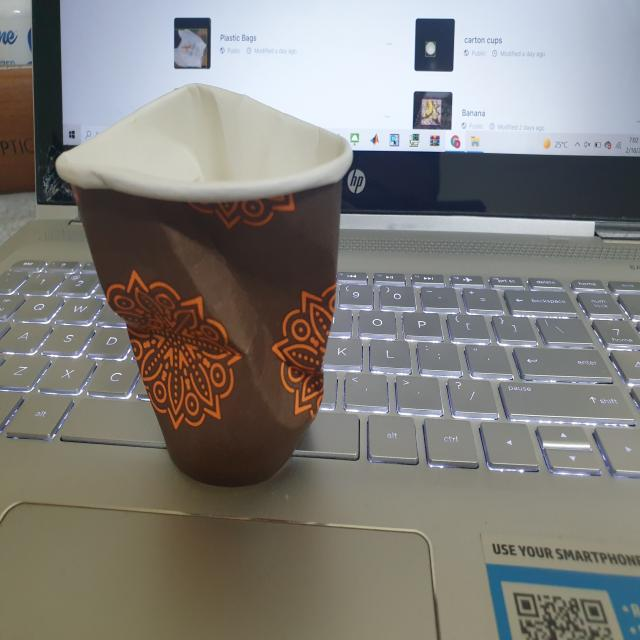cups: (49, 71, 371, 495)
